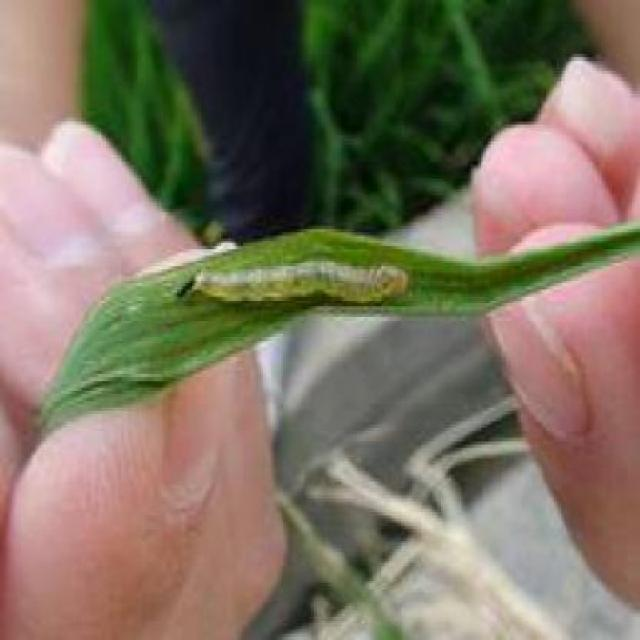leaf-folder: (157, 246, 449, 322)
